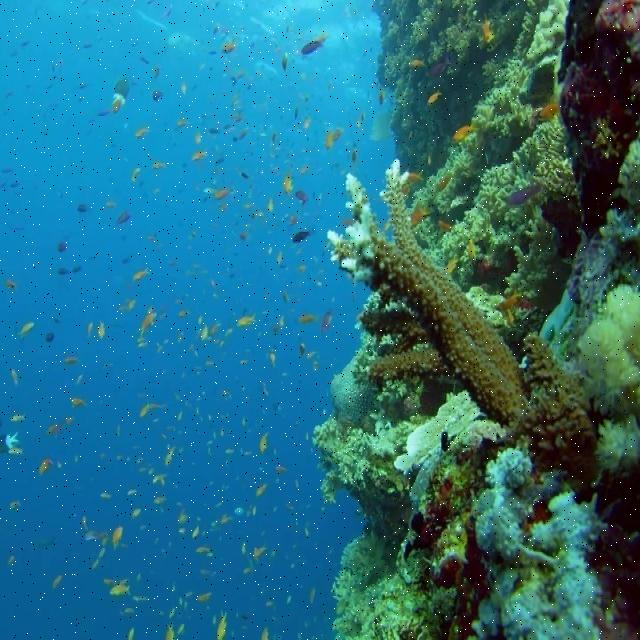reefs: (327, 161, 597, 476), (409, 1, 575, 351), (316, 358, 512, 639), (372, 0, 524, 177), (471, 446, 605, 639), (560, 0, 639, 236), (580, 288, 639, 473)
